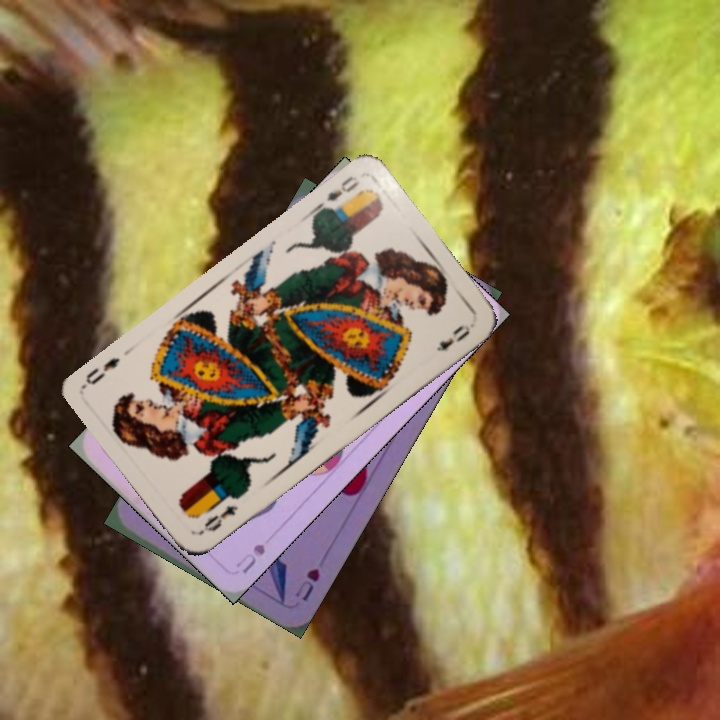EO: (312, 172, 362, 214), (195, 500, 241, 537)
HU: (291, 564, 323, 604)
SU: (232, 539, 268, 577)
